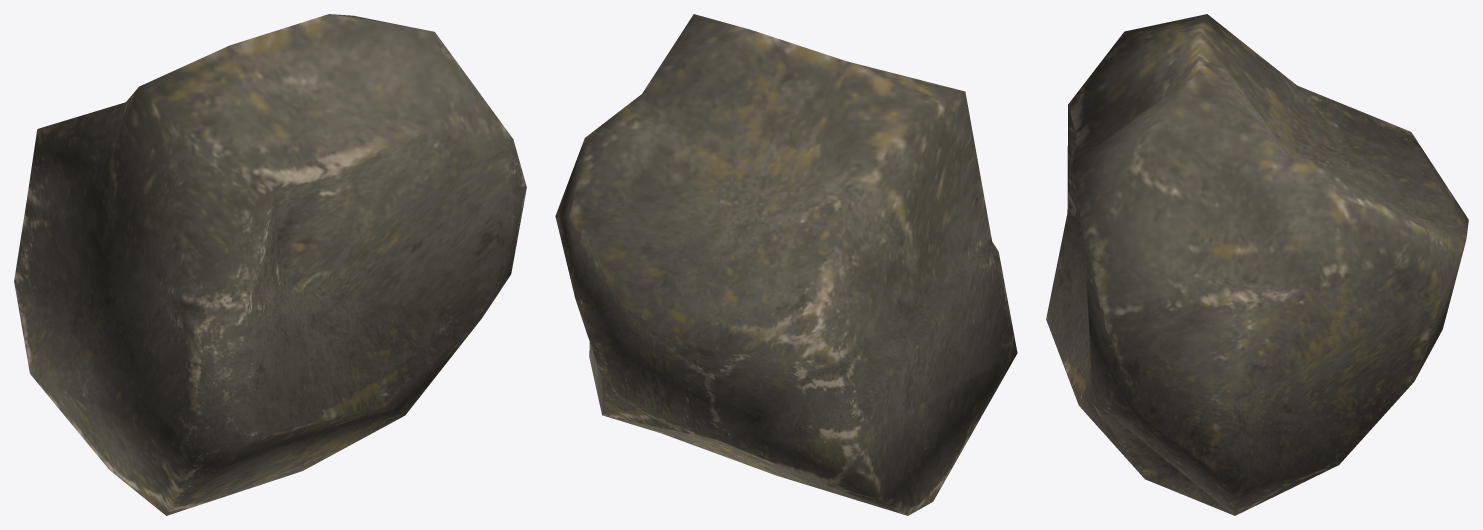
The model's file is giant_rocks_medium_three.glb.
3 views of the same model, side by side, from view 1: azimuth 30°, elevation 25°; view 2: azimuth 150°, elevation 25°; view 3: azimuth 270°, elevation 25° (orthographic). The views are drawn at different scales.
Visible parts, largest first — view 1: 01-rock-small-low_rock-small-dark-01_0; view 2: 01-rock-small-low_rock-small-dark-01_0; view 3: 01-rock-small-low_rock-small-dark-01_0.
Boxes of the visible parts, x1=… form: 01-rock-small-low_rock-small-dark-01_0: x1=14, y1=14, x2=526, y2=515; 01-rock-small-low_rock-small-dark-01_0: x1=555, y1=14, x2=1017, y2=515; 01-rock-small-low_rock-small-dark-01_0: x1=1046, y1=14, x2=1468, y2=515.
Size of the model in its own units: 12.67 by 14.79 by 12.88.
Materials: 1 (1 with a texture image).
